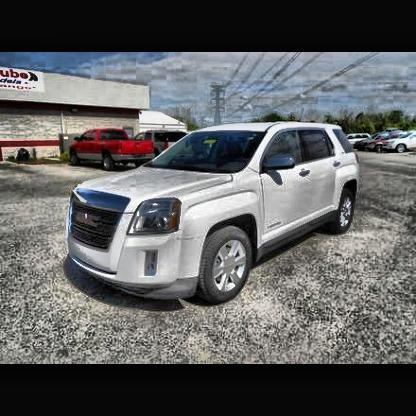GMC Terrain SUV 2012: (68, 122, 361, 306)
